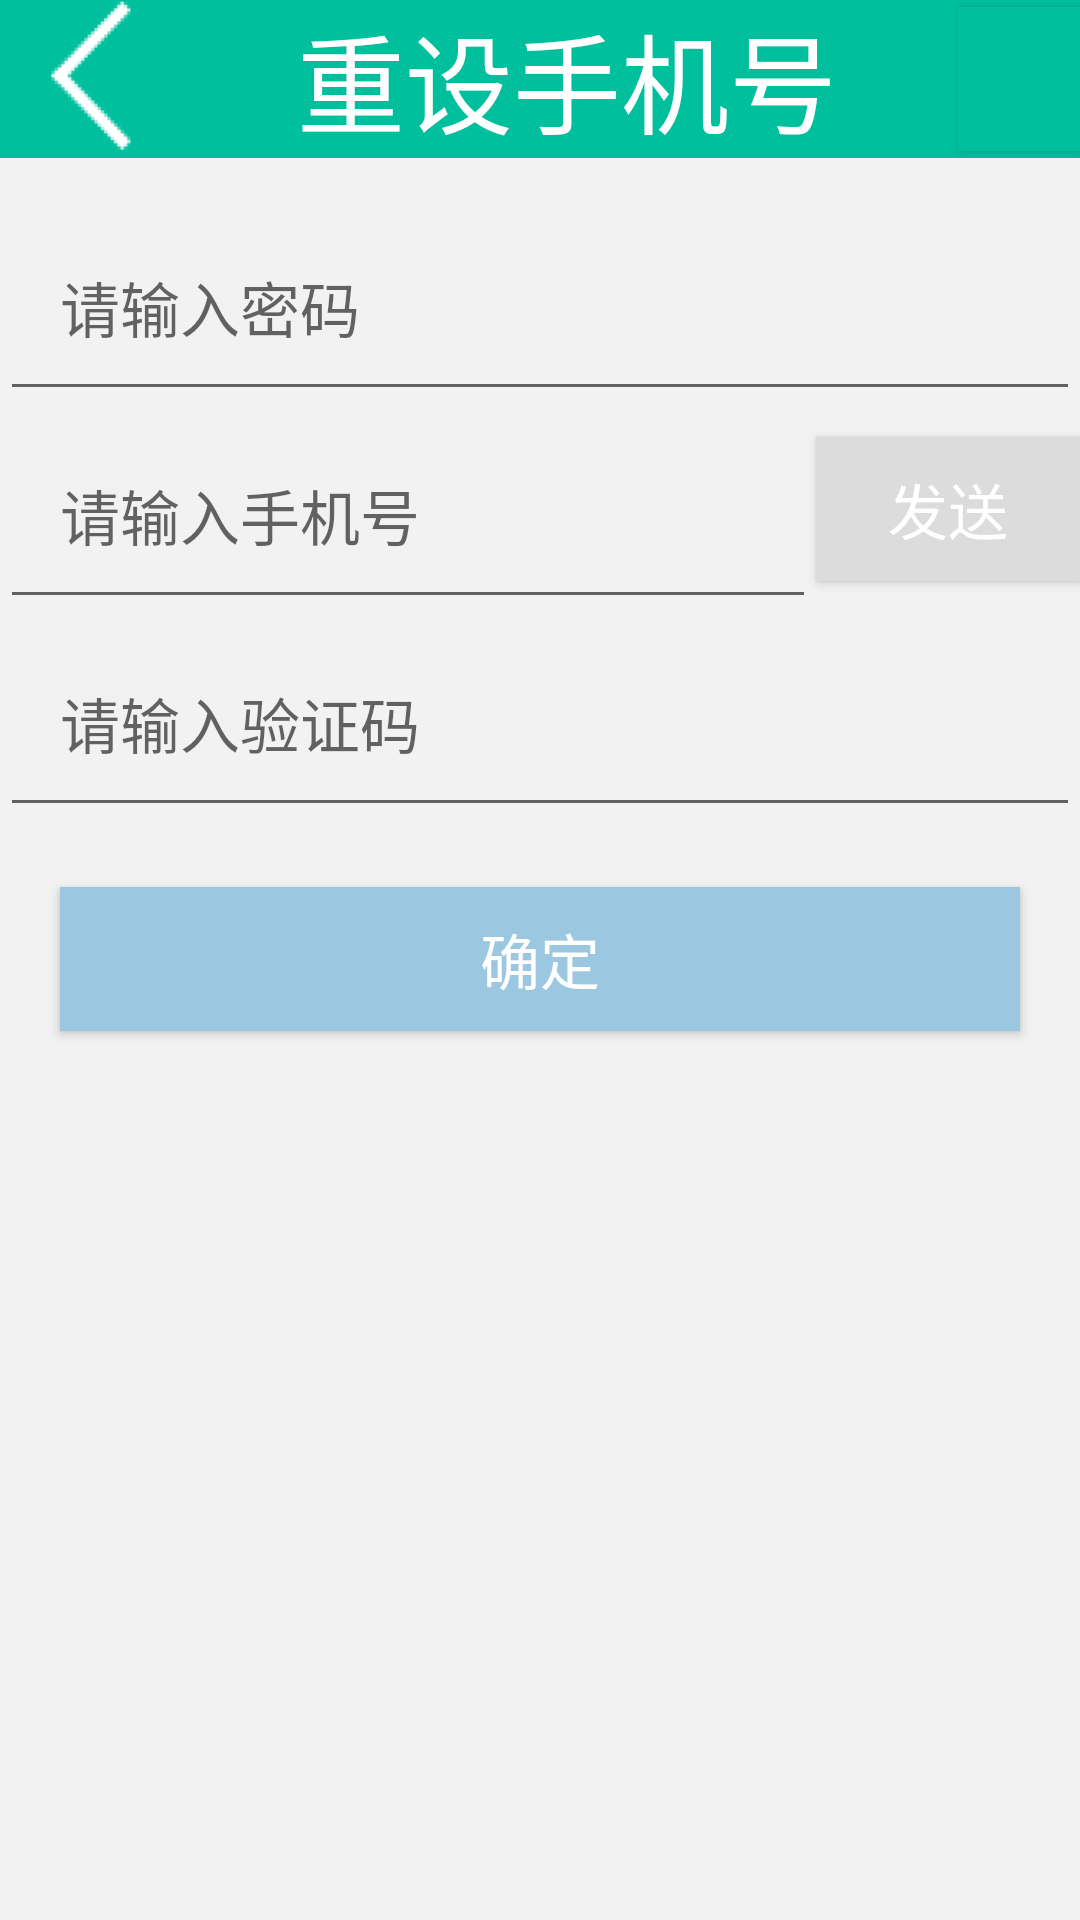

Screen size 1080×1920. Icon name, then its center in pixels as (x,y):
back: (91,75)
